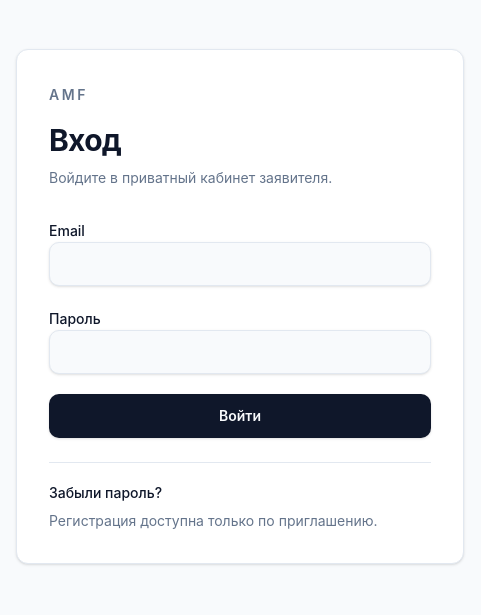
Scenario: authentication forms › maps stable credential errors without account disclosure
The width and height of the screenshot is (481, 615).
Type "nobody@example.com" into the field labelled "Email".
click(240, 264); type("nobody@example.com")  # box x1=49 y1=242 x2=431 y2=286
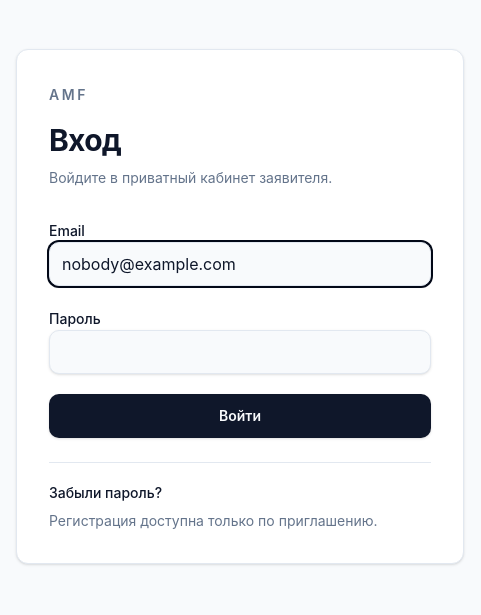
Type "wrong-password" into the password field labelled "Пароль".
click(240, 352); type("wrong-password")  # box x1=49 y1=330 x2=431 y2=374
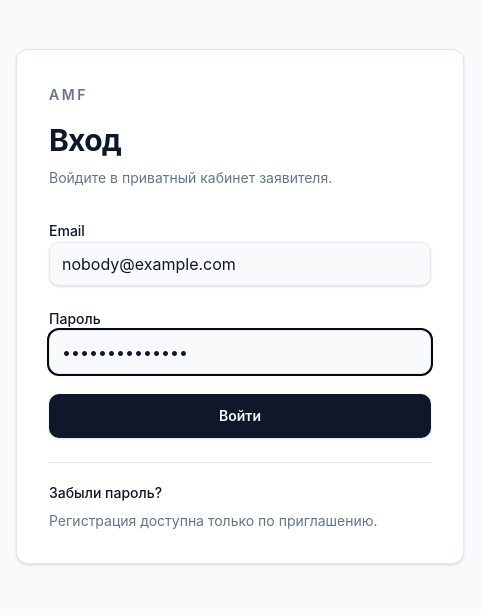
Click the button "Войти".
click(240, 416)  # box x1=49 y1=394 x2=431 y2=438
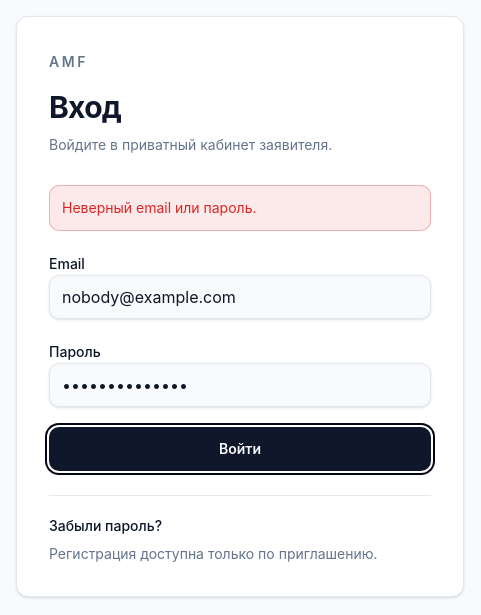
Result: the message shows "Неверный email или пароль" at x1=62 y1=198 x2=256 y2=216
